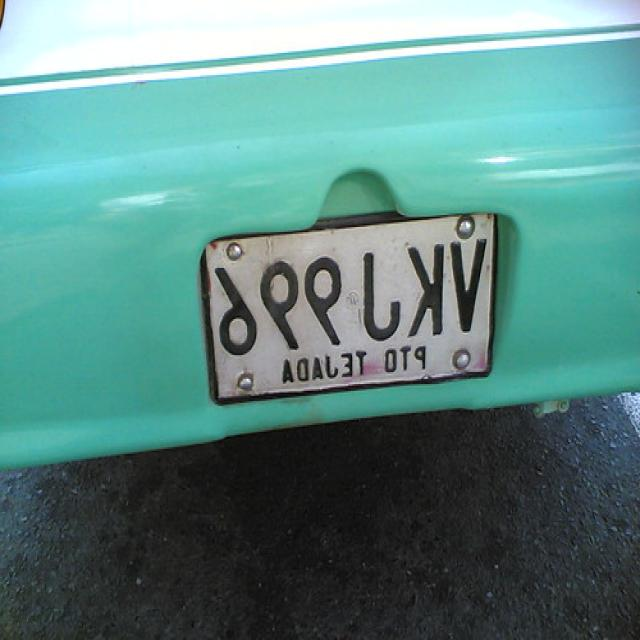placas: (207, 226, 496, 361)
